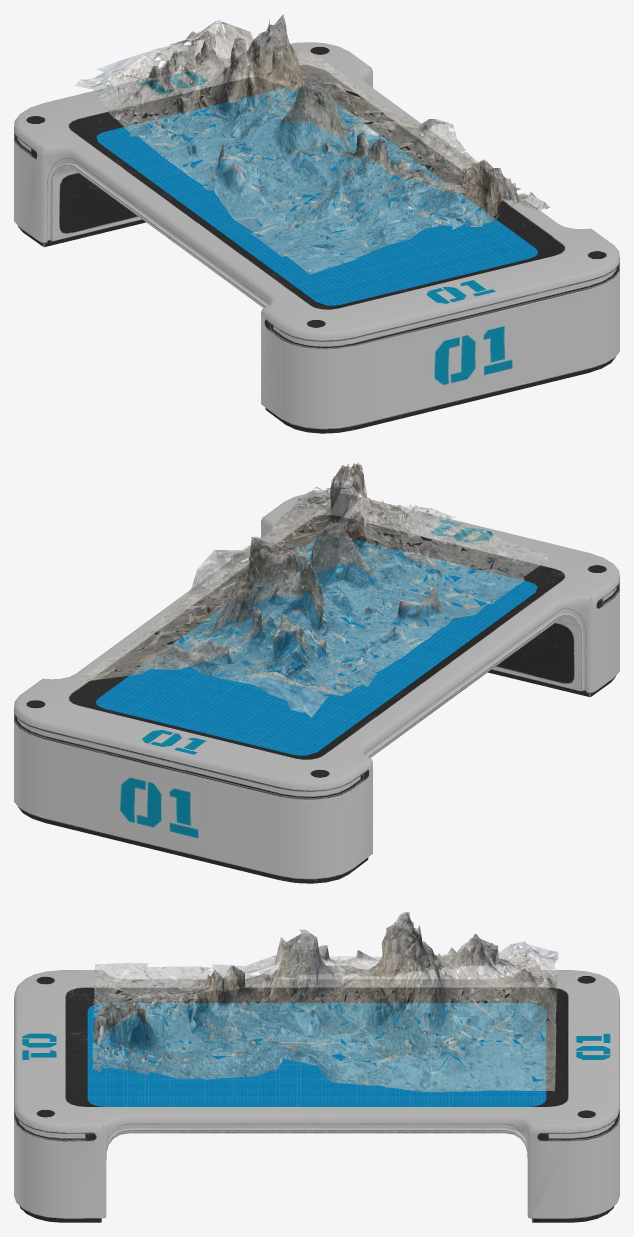
The model's file is geosynth-table.glb.
3 views of the same model, one above another, from view 1: azimuth 30°, elevation 25°; view 2: azimuth 150°, elevation 25°; view 3: azimuth 270°, elevation 25° (orthographic). The views are drawn at different scales.
Visible parts, largest first — view 1: Object_3, Object_2; view 2: Object_3, Object_2; view 3: Object_3, Object_2.
Boxes of the visible parts, x1,y1,x2,y2 form: Object_3: [14, 42, 619, 433]; Object_2: [74, 14, 549, 274]; Object_3: [14, 492, 619, 883]; Object_2: [74, 462, 552, 717]; Object_3: [14, 970, 619, 1222]; Object_2: [92, 912, 558, 1092].
Bounding box in the file's own units: 2.34 × 1.58 × 3.81.
Materials: 2 (2 with a texture image).
